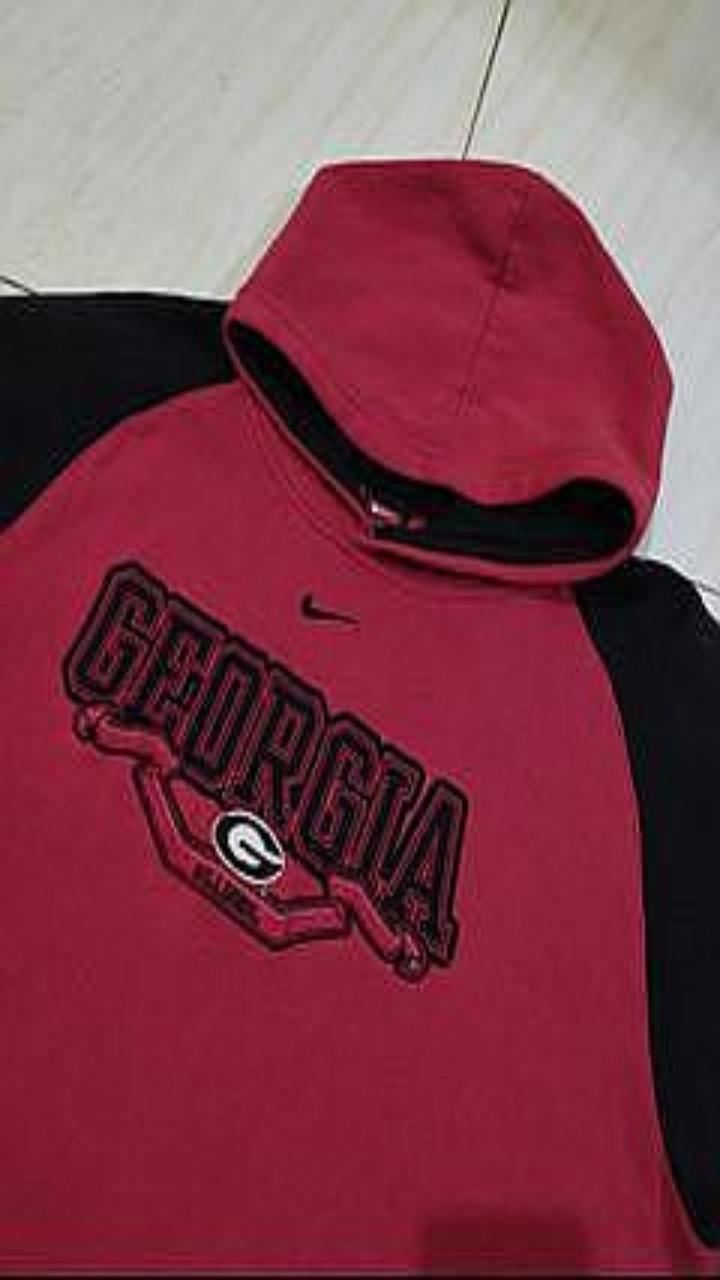Hoodie: (0, 161, 719, 1274)
